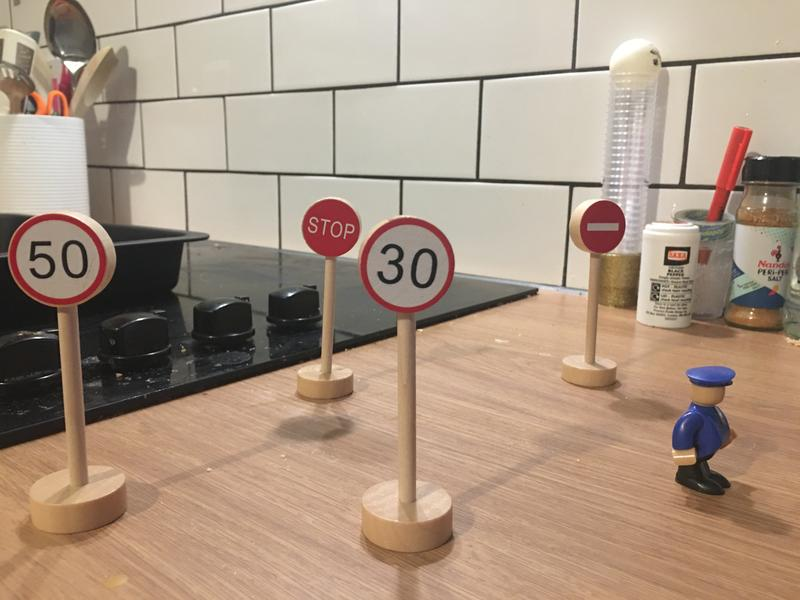Traffic_Sign_30: (364, 218, 451, 309)
Traffic_Sign_50: (11, 212, 109, 304)
Traffic_Sign_No_Entry: (578, 199, 627, 253)
Traffic_Sign_Stop: (301, 197, 361, 256)
person: (669, 359, 745, 498)
